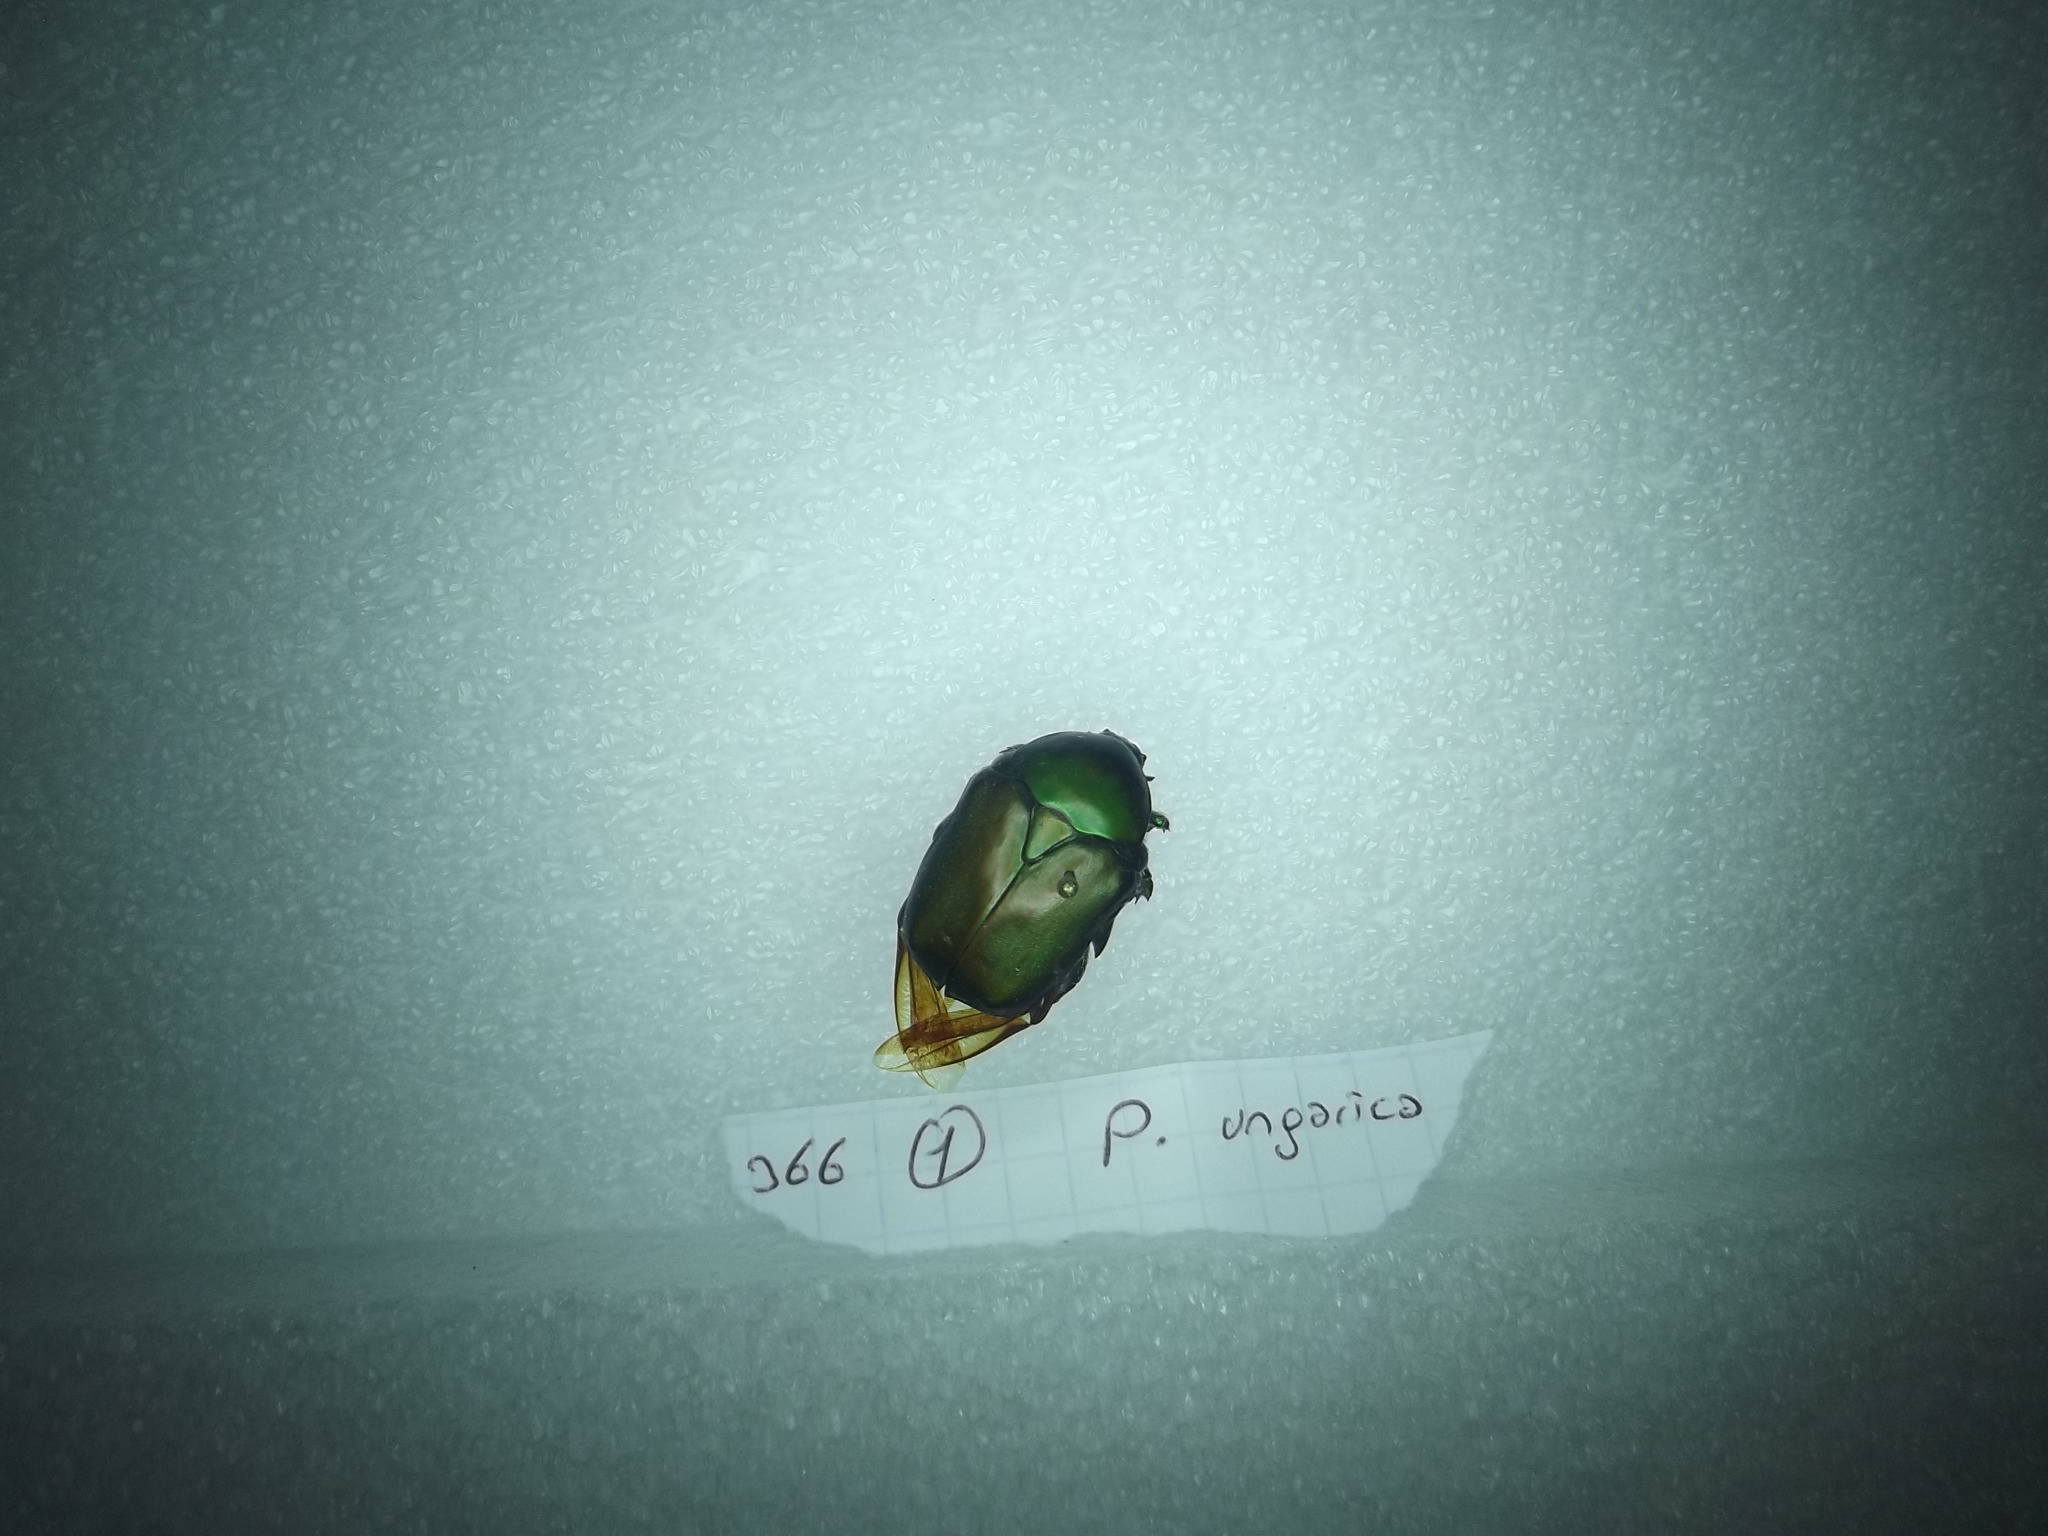Protaetia_ungarica_americana: (863, 707, 1180, 1084)
